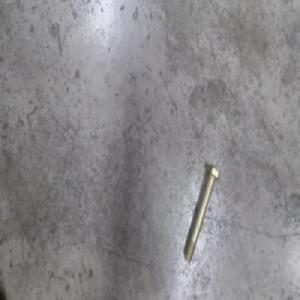Bolt: (183, 166, 220, 265)
